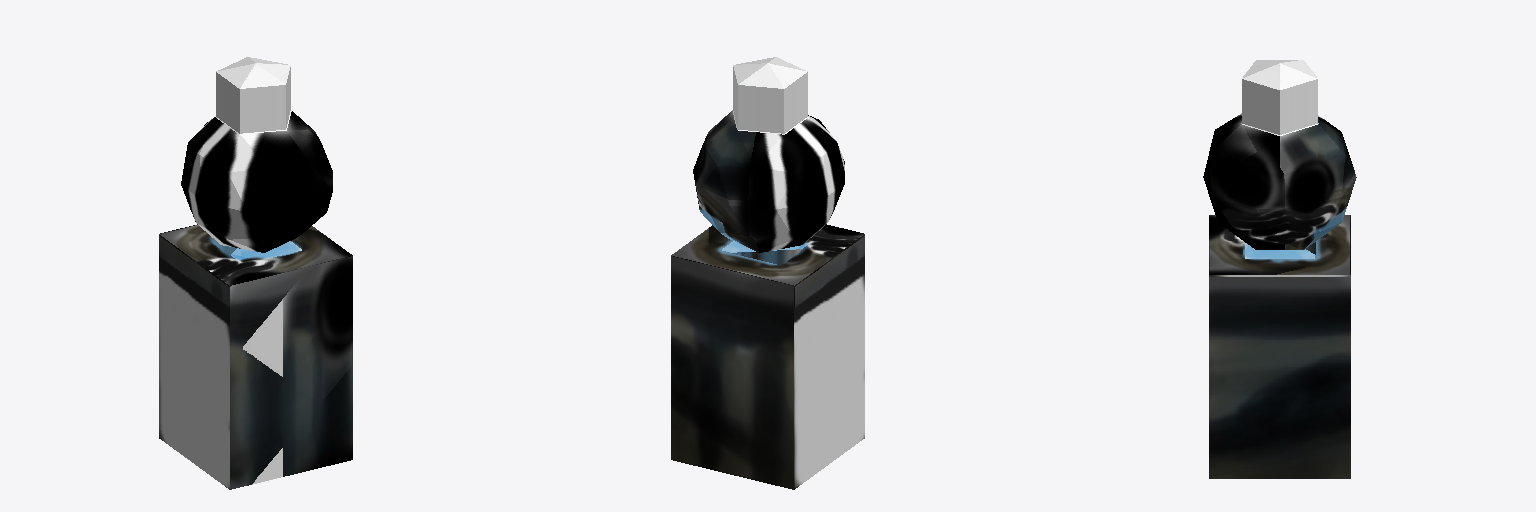
3 renders of one model, left to right at view 1: azimuth 30°, elevation 25°; view 2: azimuth 150°, elevation 25°; view 3: azimuth 270°, elevation 25°, orthographic.
Parts seen in each view (by area): view 1: Icosphere; view 2: Icosphere; view 3: Icosphere.
Boxes of the visible parts, x1=… form: Icosphere: x1=159, y1=57, x2=352, y2=489; Icosphere: x1=671, y1=57, x2=864, y2=489; Icosphere: x1=1203, y1=60, x2=1356, y2=478.
Bounding box in the file's own units: 1.29 × 3.67 × 1.32.
1 materials, 1 textured.